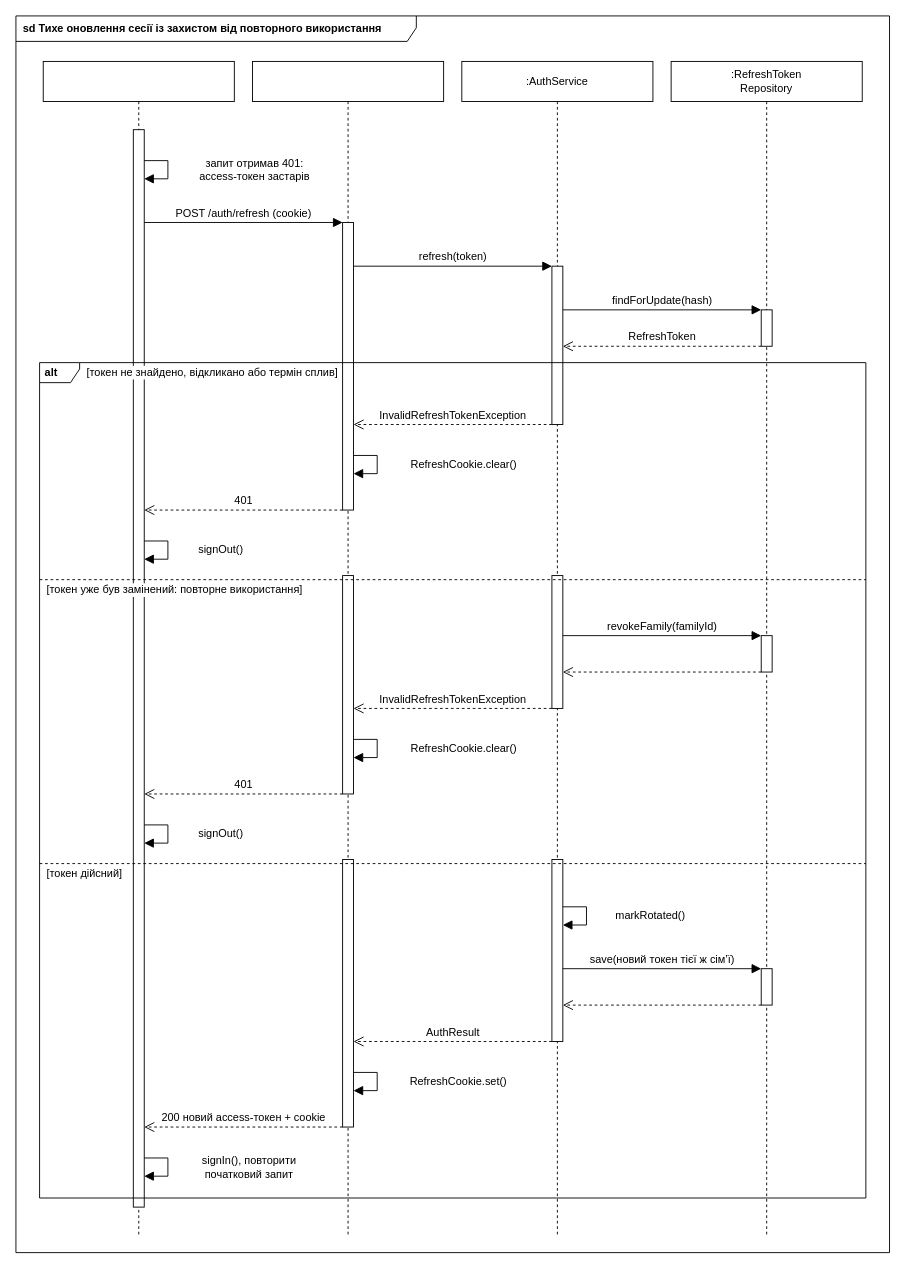
Some shapes in this 905 by 1269 pixel diagram are drawn without their labels. The box of each missing label's shape, as (x1, y1, x2, y2) in pixels:
:API-клієнт SPA: (42, 61, 234, 1234)
:AuthController: (252, 61, 444, 1234)
